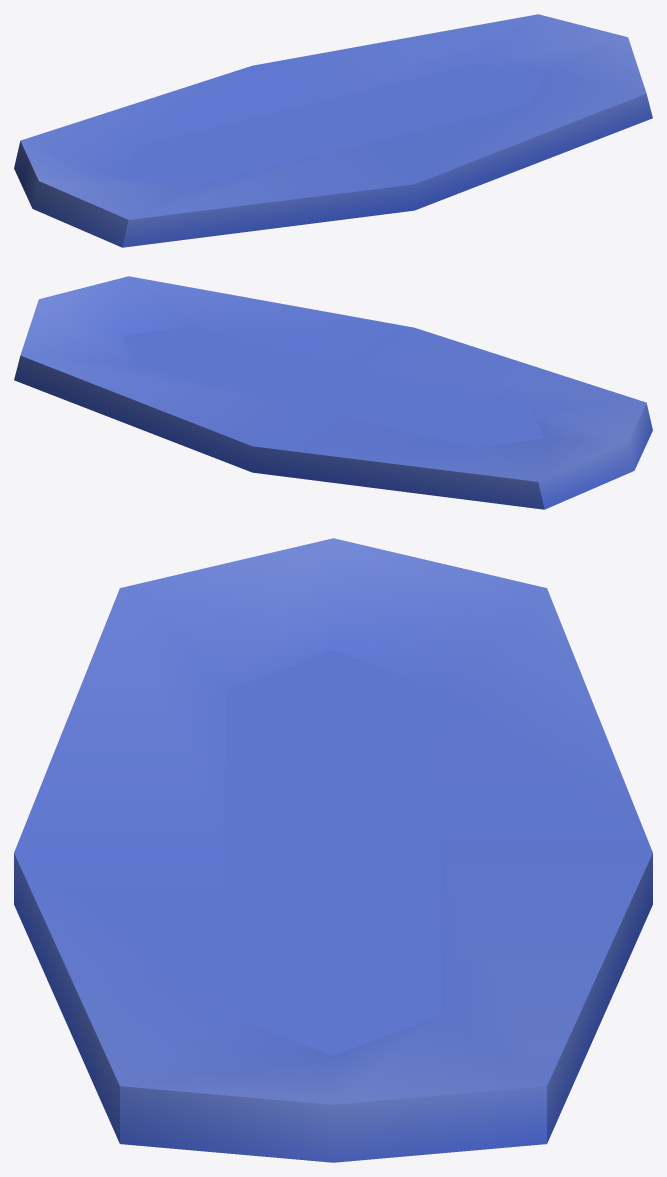
File: Guard_One.fbx
3 views of the same model, one above another, from view 1: azimuth 30°, elevation 25°; view 2: azimuth 150°, elevation 25°; view 3: azimuth 270°, elevation 25° (orthographic). The views are drawn at different scales.
Visible parts, largest first — view 1: Guard_One; view 2: Guard_One; view 3: Guard_One.
Boxes of the visible parts, x1,y1,x2,y2 form: Guard_One: (14,14,652,247); Guard_One: (14,276,652,509); Guard_One: (14,538,652,1162).
Bounding box in the file's own units: 4.91 × 0.3285 × 2.29.
